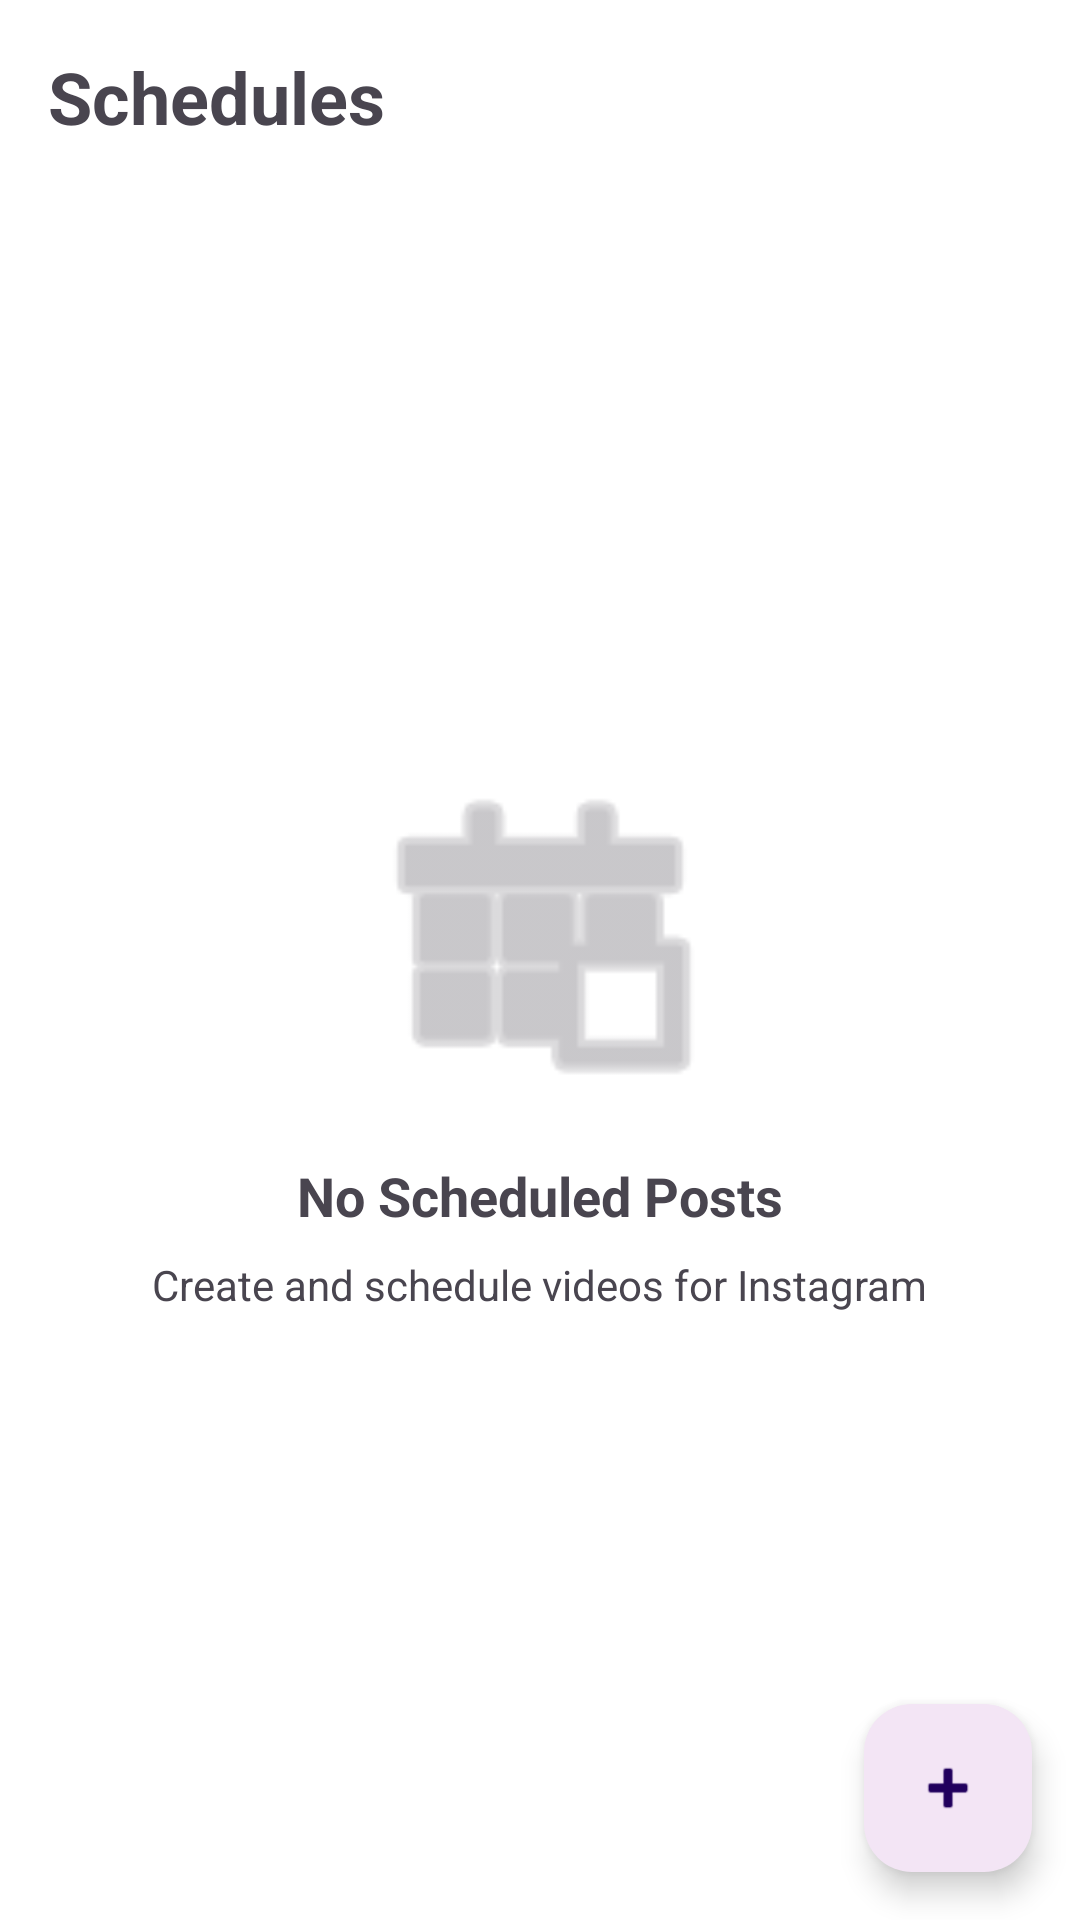

Screen size 1080x1920. Icon name, then its center in pixels as point (x, y):
Add Schedule: point (948, 1788)
today: point (544, 937)
